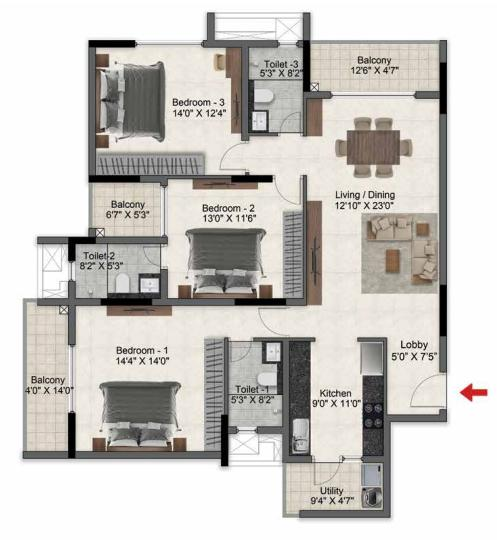Balcony: (25, 305, 75, 456), (308, 41, 441, 96), (87, 181, 161, 238)
Bed: (101, 378, 180, 453), (188, 228, 265, 296), (92, 67, 166, 135)
Bedroom: (77, 306, 225, 457), (94, 47, 245, 178), (164, 181, 305, 304)
Dining Room: (309, 99, 441, 215)
Dining table: (336, 112, 412, 182)
Kitchen: (287, 338, 381, 462)
Living Room: (310, 202, 440, 320)
Sofa: (366, 214, 413, 241), (412, 239, 439, 278)
Wardrobe: (202, 336, 229, 451), (88, 152, 206, 175), (285, 212, 304, 298)
commode: (258, 374, 281, 389), (255, 89, 275, 106), (117, 272, 131, 294)
door: (413, 367, 446, 410), (257, 304, 291, 340), (271, 179, 304, 207), (220, 143, 247, 171), (314, 460, 342, 487), (143, 245, 168, 269), (227, 339, 251, 363), (282, 114, 303, 133)
fridge: (362, 343, 383, 376)
kitchen-slab: (286, 339, 311, 459), (362, 377, 388, 459)
lobby: (384, 322, 445, 415)
sink: (264, 342, 281, 364), (250, 111, 269, 130), (141, 280, 160, 293)
toilet: (225, 339, 285, 432), (247, 42, 305, 132), (74, 242, 161, 298)
tv: (306, 204, 326, 300), (226, 46, 248, 131), (106, 298, 172, 318), (195, 178, 258, 191)
utility: (286, 458, 388, 512)
washing-machine: (362, 487, 381, 508)
